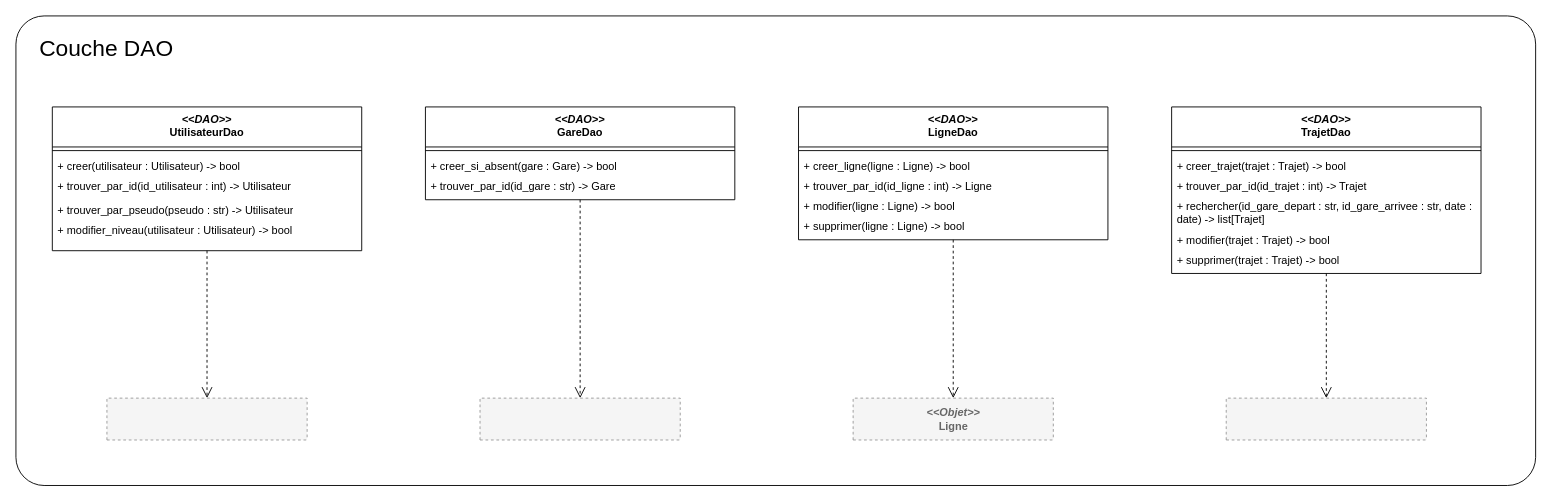
This 1552x501 diagram has some shape labels left out. The box of each missing label's shape, as (x1, y1, x2, y2) in pixels:
<<Objet>> Gare: (479, 397, 680, 440)
<<Objet>> Trajet: (1225, 397, 1426, 440)
<<Objet>> Utilisateur: (106, 397, 307, 440)
